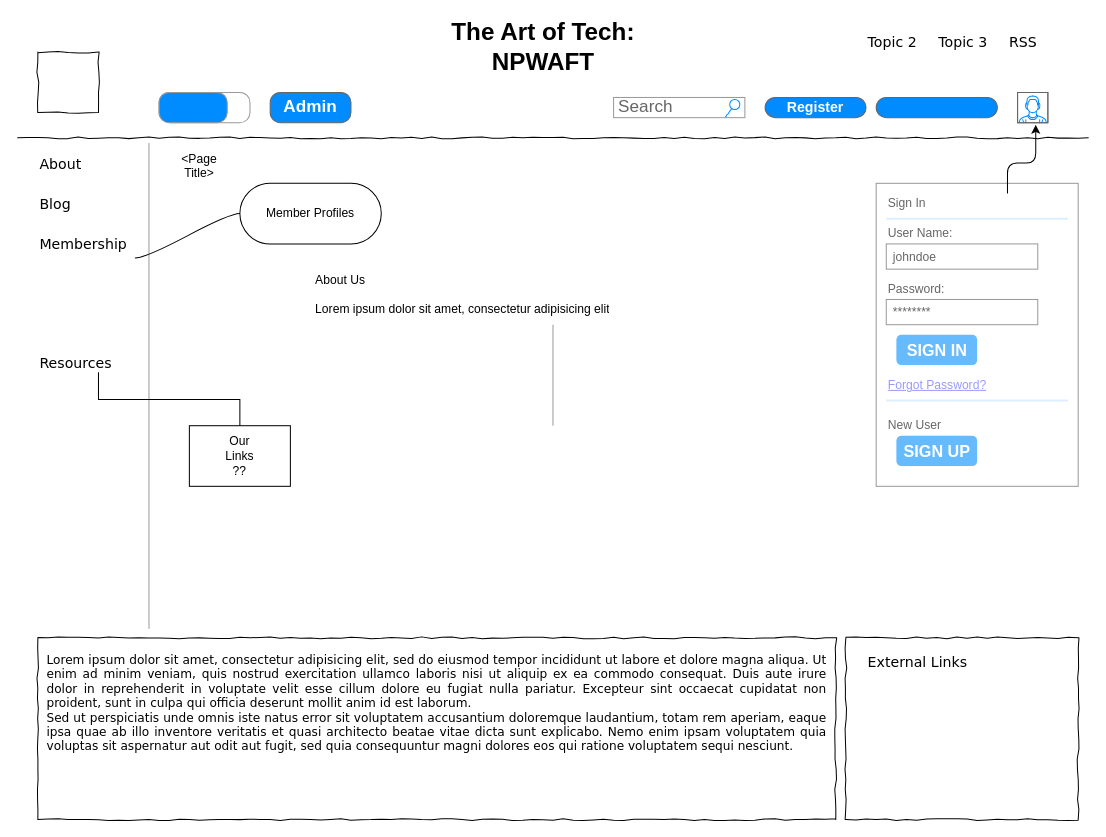
The diagram is 1106 pixels wide and 837 high, and some of its shapes have lost their labels. The centre of each missing label's shape, as x and y in pixels:
Button Text: point 936,107
Light: point 204,107
LOGO: point 67,82
